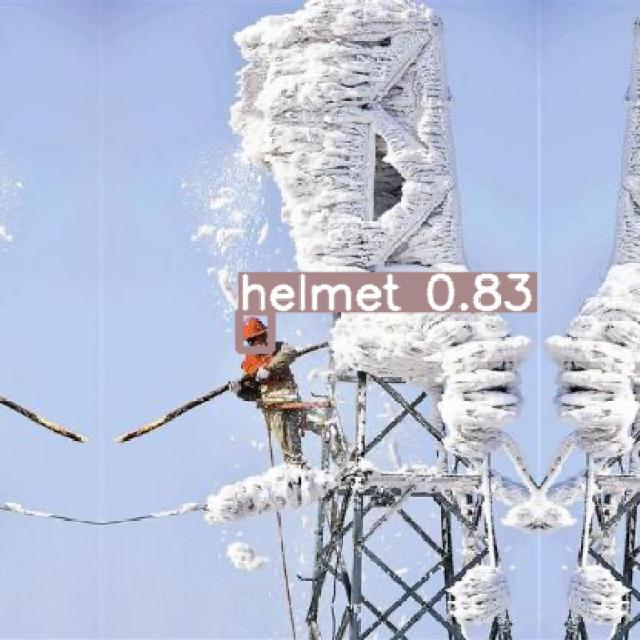Helmet: (241, 316, 267, 340)
